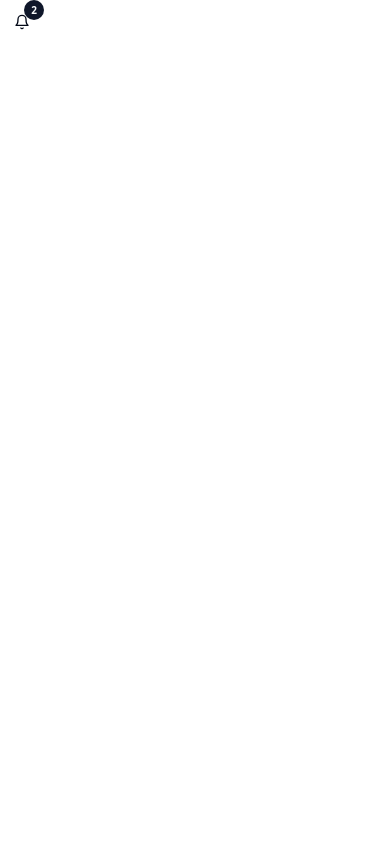
Scenario: Activity Center › does not issue duplicate requests while a fetch is in flight
Later steps or results of the test are not shown.
Click the button named "activity center". click: (22, 22)
box: [0, 0, 44, 44]
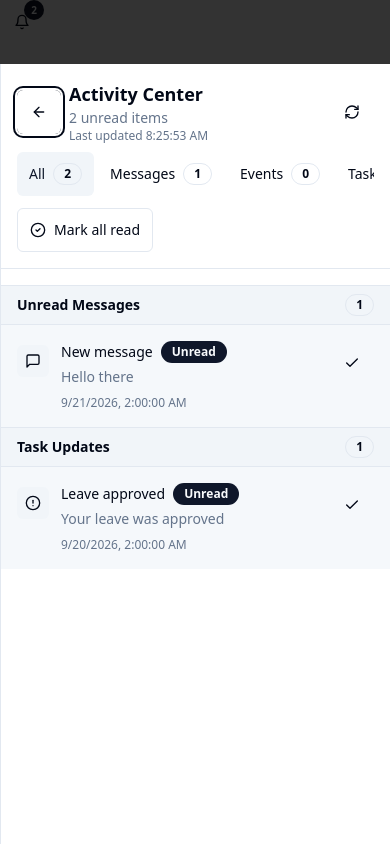
expect the heading "Activity Center" is shown: met, box [69, 82, 203, 106]
